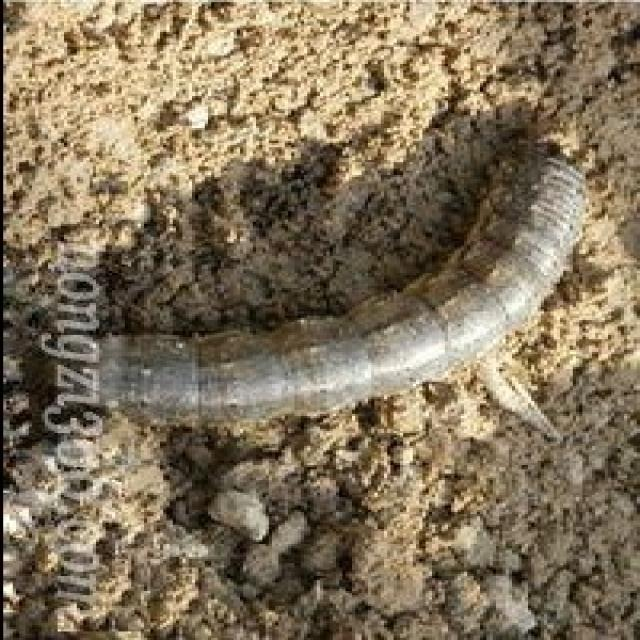black cutworm: (40, 142, 597, 445)
